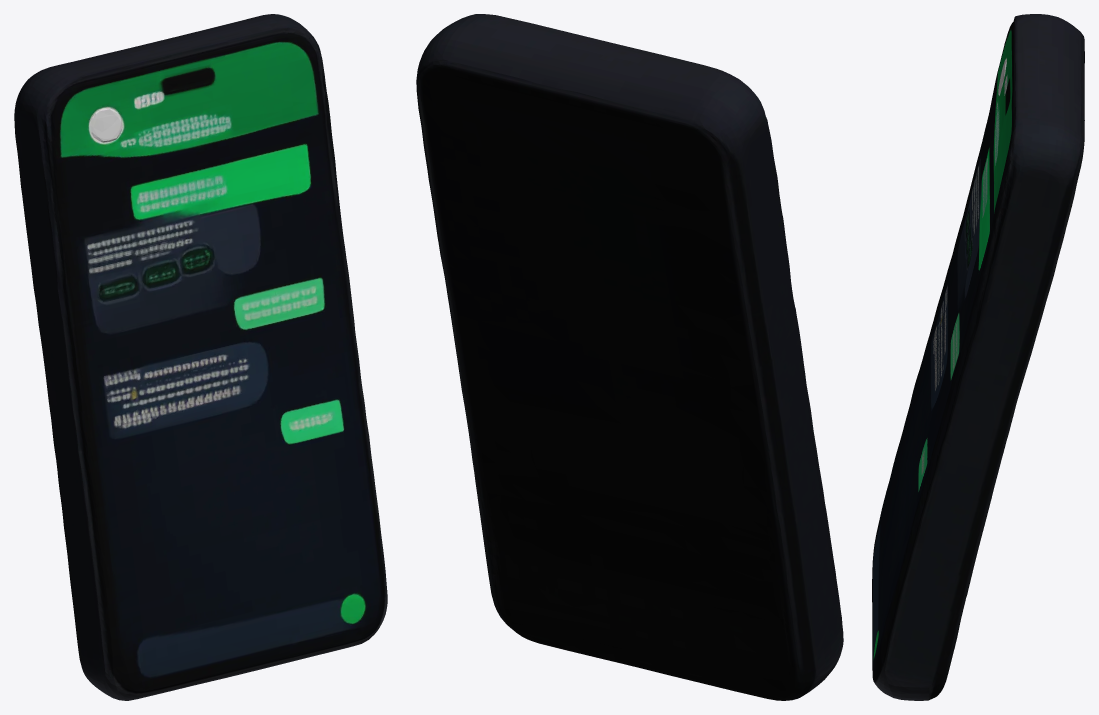
The model's file is clinibot-phone.glb.
3 renders of one model, left to right at view 1: azimuth 30°, elevation 25°; view 2: azimuth 150°, elevation 25°; view 3: azimuth 270°, elevation 25°, orthographic. The views are drawn at different scales.
Visible parts, largest first — view 1: world; view 2: world; view 3: world.
Boxes of the visible parts, x1,y1,x2,y2 form: world: [14, 14, 387, 700]; world: [416, 14, 843, 700]; world: [872, 14, 1084, 700].
Bounding box in the file's own units: 0.5115 × 0.9993 × 0.3323.
1 material, 1 textured.
